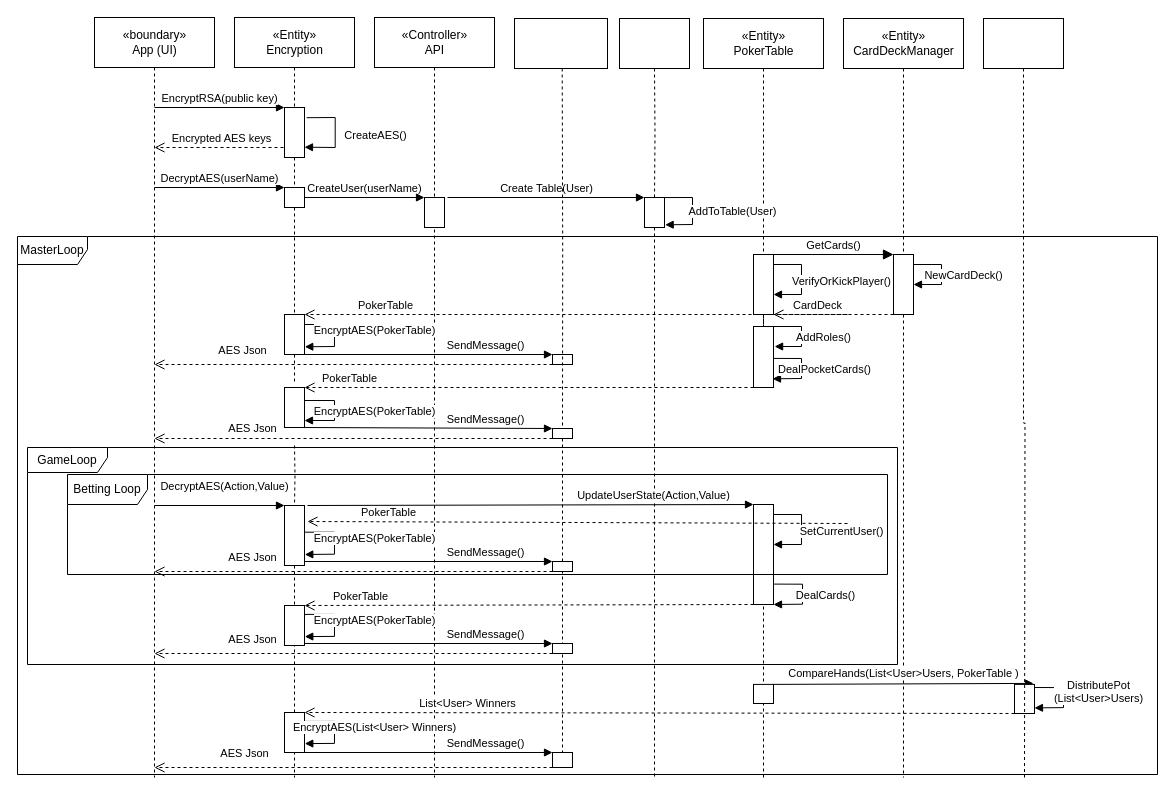
Image size: 1175x796. Some labels were removed from this diagram. The centre of each missing label's shape, as x and y in pixels:
«Entity» Lobby: the point at 654,43
«Entity» RuleManager: the point at 1023,43
«Websocket» Websocket: the point at 561,43
